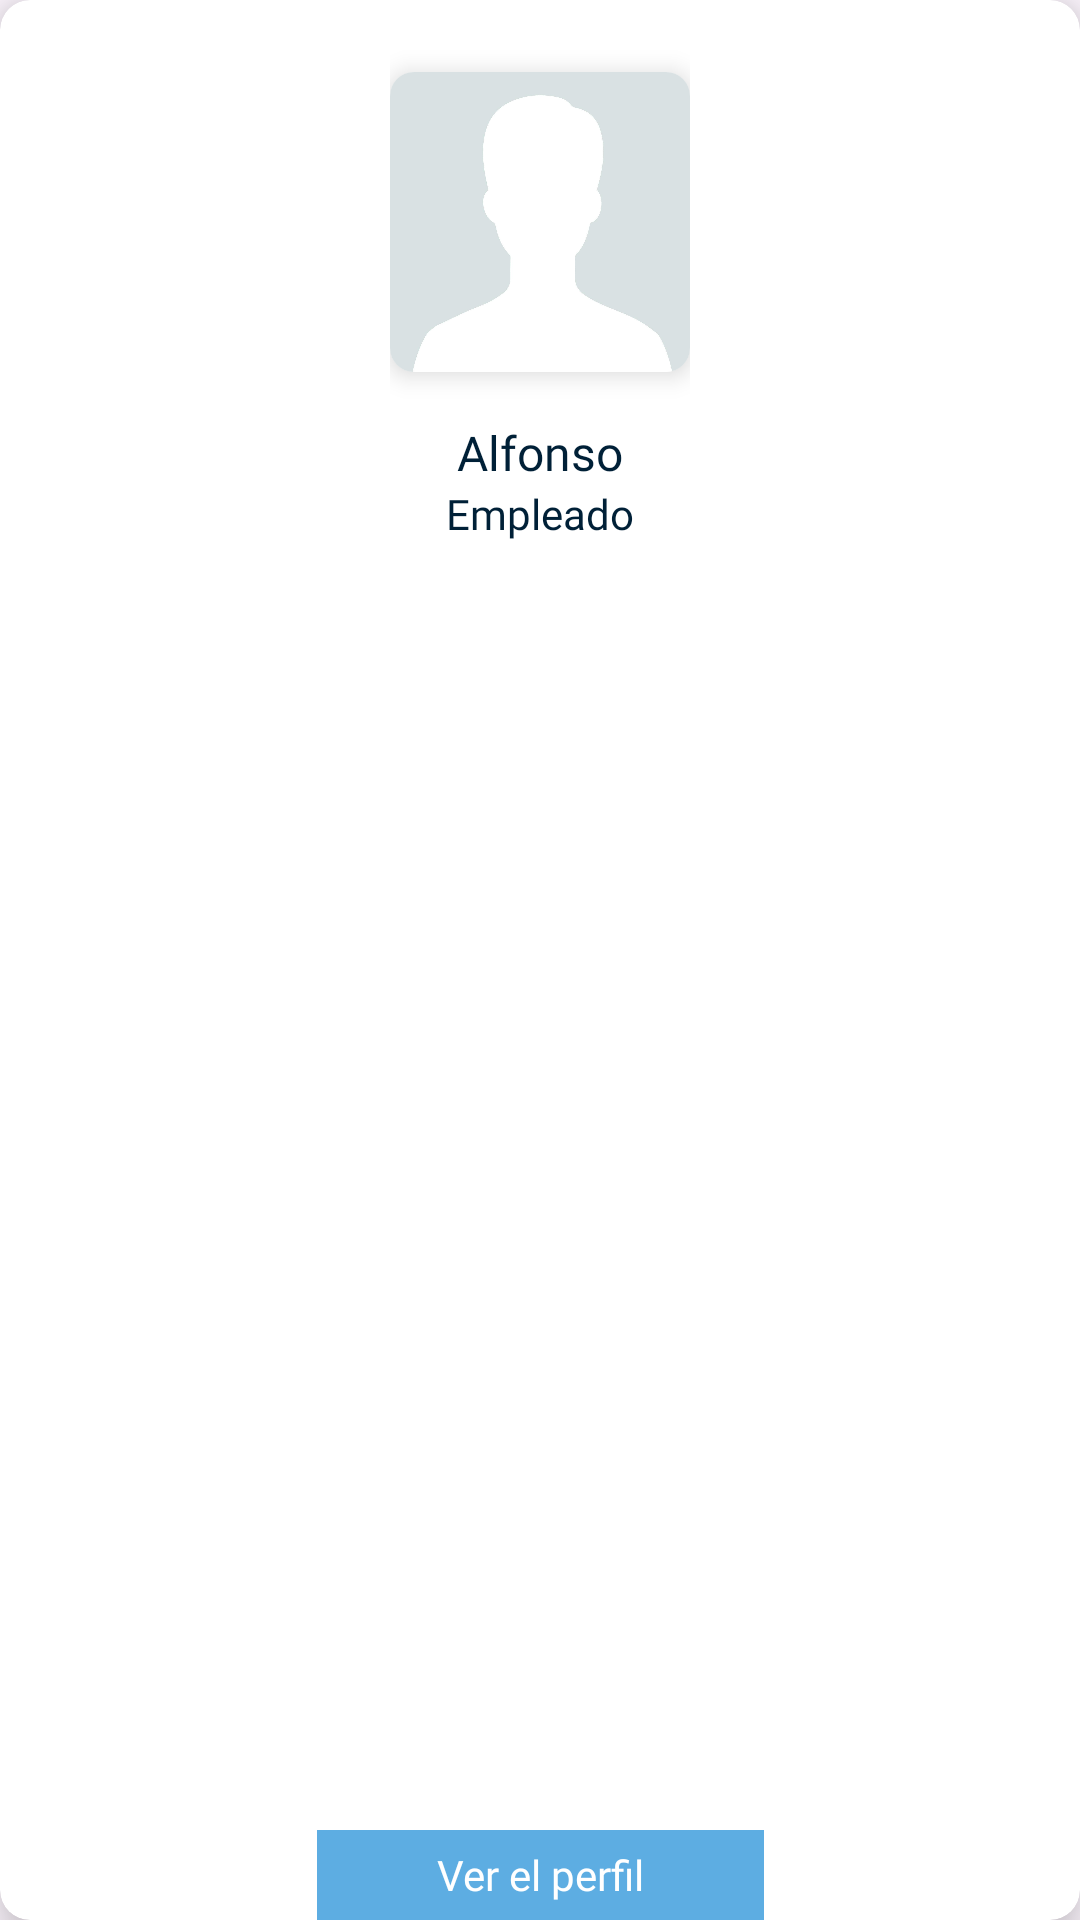

Named icons in this screenshot (1080px×1920px) and their bounding boxes, (x1, y1, x2, y2):
defaultavatar: (390, 72, 690, 372)
